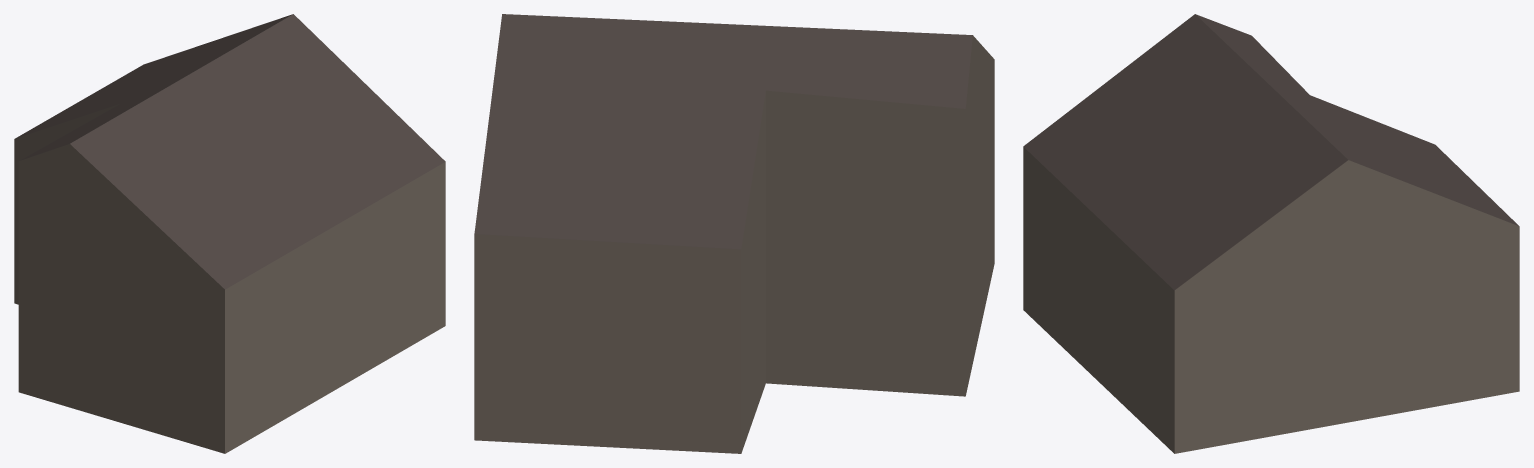
3 renders of one model, left to right at view 1: azimuth 30°, elevation 25°; view 2: azimuth 150°, elevation 25°; view 3: azimuth 270°, elevation 25°, orthographic. The views are drawn at different scales.
Visible parts, largest first — view 1: HP-w1512480745; view 2: HP-w1512480745; view 3: HP-w1512480745.
Part boxes in pixels (x1=…): HP-w1512480745: x1=14, y1=14, x2=445, y2=453; HP-w1512480745: x1=474, y1=14, x2=994, y2=453; HP-w1512480745: x1=1023, y1=14, x2=1519, y2=453.
Size of the model in its own units: 22.27 by 14.45 by 24.78.
